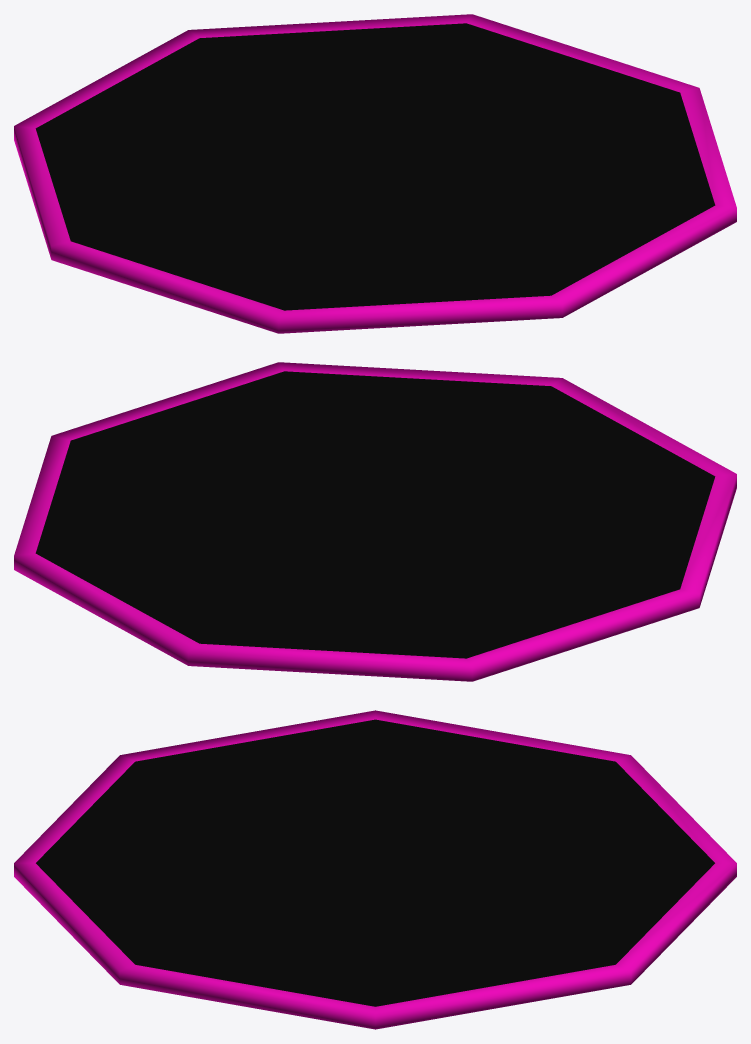
The model's file is Tile_GJ.fbx.
3 renders of one model, top to bottom at view 1: azimuth 30°, elevation 25°; view 2: azimuth 150°, elevation 25°; view 3: azimuth 270°, elevation 25°, orthographic. The views are drawn at different scales.
Parts seen in each view (by area): view 1: Tile; view 2: Tile; view 3: Tile.
Part boxes in pixels (bbox=[...]): Tile: bbox=[14, 14, 736, 333]; Tile: bbox=[14, 362, 736, 681]; Tile: bbox=[14, 710, 736, 1029].
Bounding box in the file's own units: 7045 × 146 × 7045.
